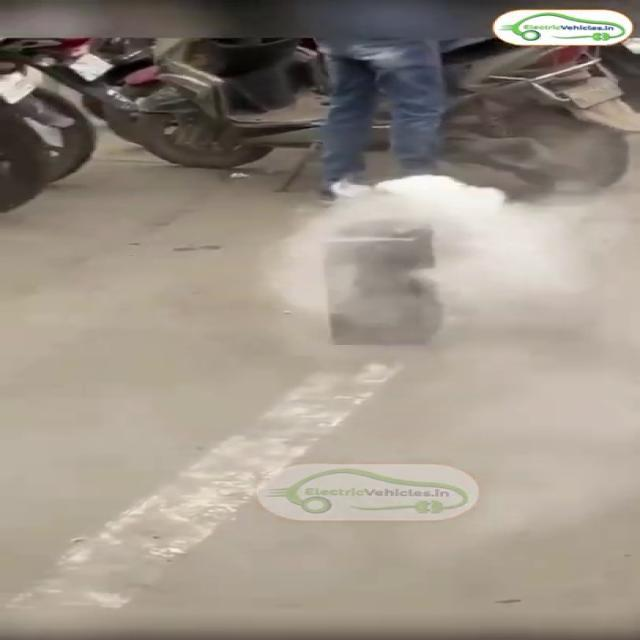Smoke: (245, 160, 640, 378)
